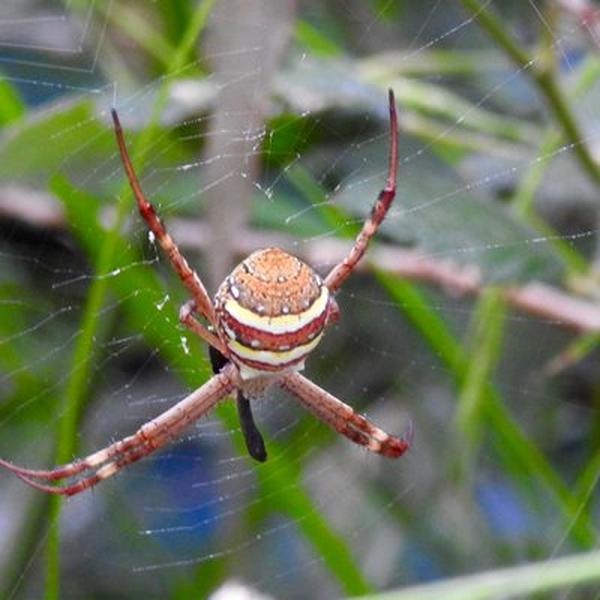St Andrew's Cross Spider: (21, 104, 415, 496)
